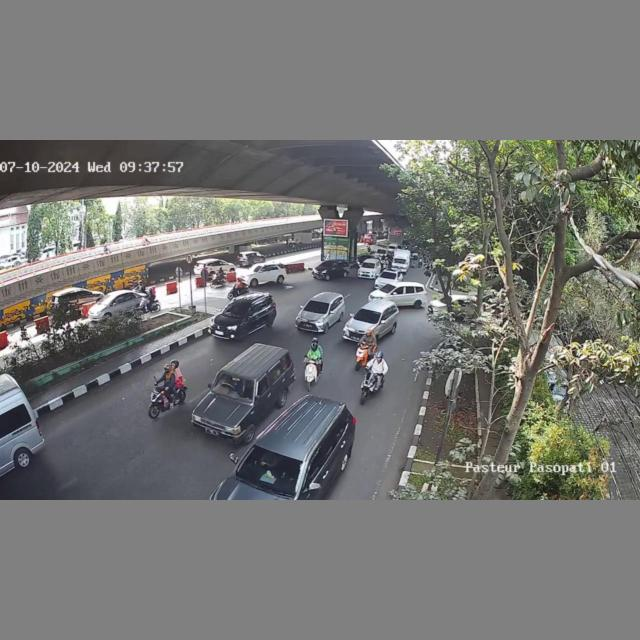windshield: (235, 443, 307, 495), (213, 371, 255, 404), (222, 302, 248, 317), (355, 309, 381, 324), (304, 300, 330, 313), (379, 271, 397, 279), (362, 262, 375, 268)
